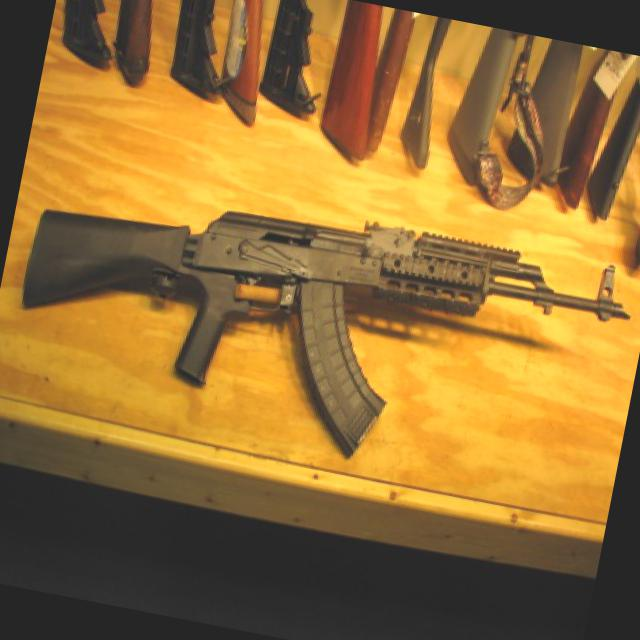long weapon: (0, 137, 639, 506)
